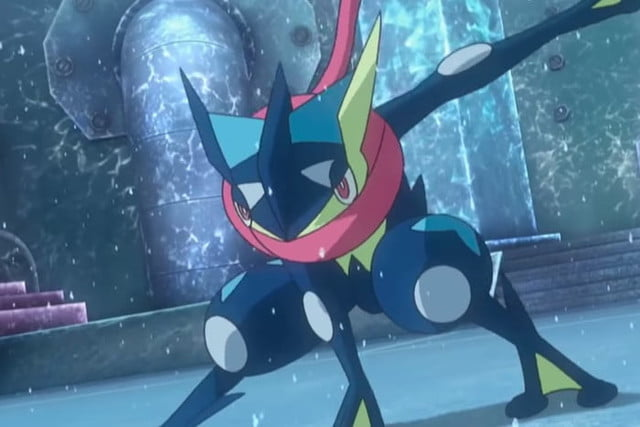greninja: (145, 3, 640, 423)
